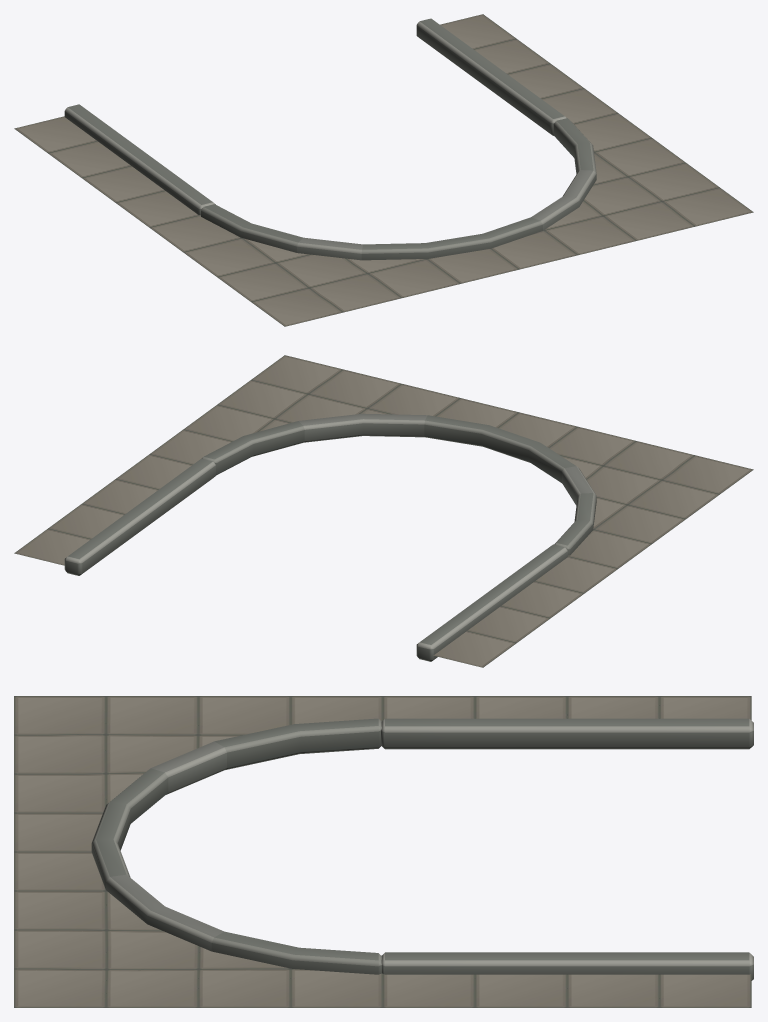
The model's file is dead_end.glb.
3 views of the same model, one above another, from view 1: azimuth 30°, elevation 25°; view 2: azimuth 150°, elevation 25°; view 3: azimuth 270°, elevation 25° (orthographic). The views are drawn at different scales.
Visible parts, largest first — view 1: road_section_dead_end_sidewalk, road_section_dead_end; view 2: road_section_dead_end_sidewalk, road_section_dead_end; view 3: road_section_dead_end_sidewalk, road_section_dead_end.
Part boxes in pixels (x1,y1,x2,y2): road_section_dead_end_sidewalk: (14,14,753,326); road_section_dead_end: (64,18,596,260); road_section_dead_end_sidewalk: (14,355,753,667); road_section_dead_end: (64,413,596,661); road_section_dead_end_sidewalk: (14,696,751,1007); road_section_dead_end: (91,718,753,980).
Size of the model in its own units: 16 by 0.55 by 16.05.
Materials: 2 (2 with a texture image).
